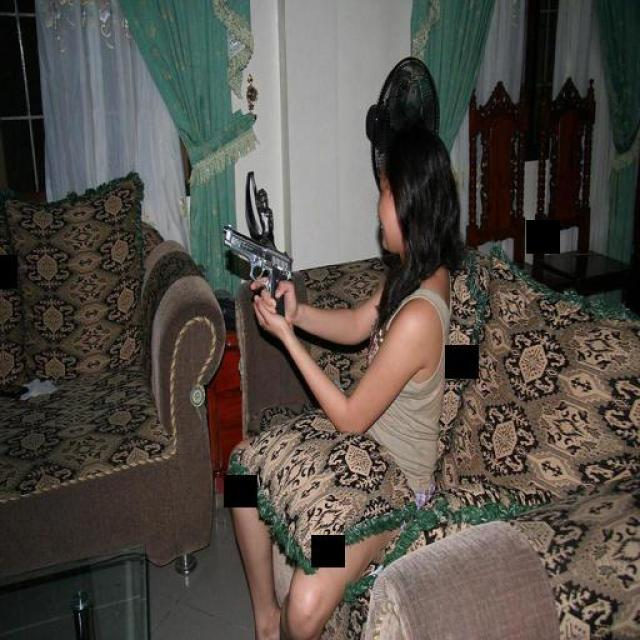gun: (216, 222, 294, 316)
